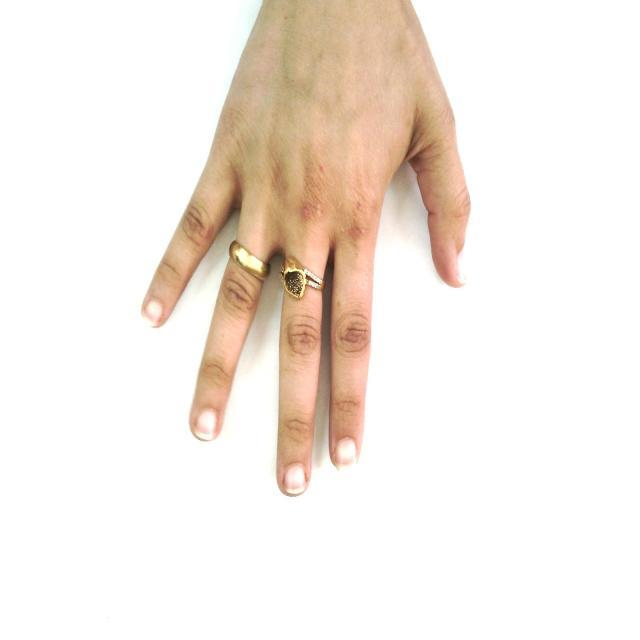Fingernail: (284, 465, 306, 495), (196, 410, 218, 440), (337, 438, 356, 466), (144, 301, 162, 325), (457, 255, 465, 282)
